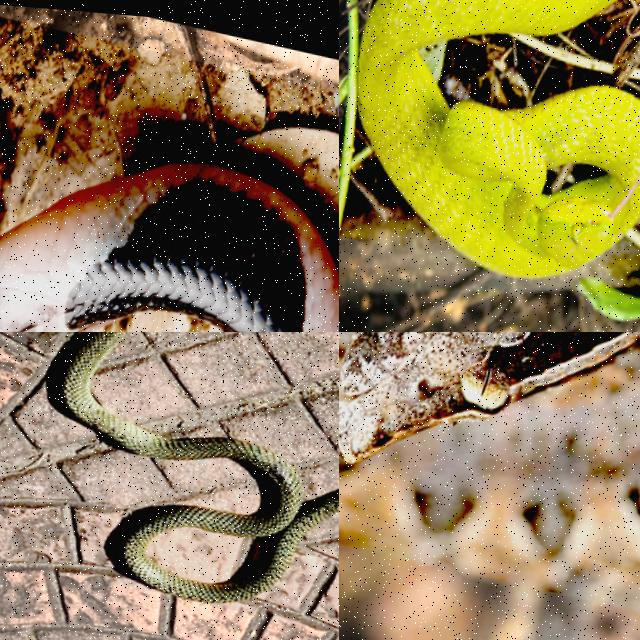Bungarus candidus: (0, 162, 338, 331)
Calloselasma rhodostoma: (339, 332, 639, 584)
Chrysopelea ornata: (61, 332, 338, 602)
Trimeresurus: (358, 0, 639, 277)
snake: (358, 0, 639, 277), (339, 332, 639, 584), (61, 332, 338, 602), (0, 162, 338, 331)
